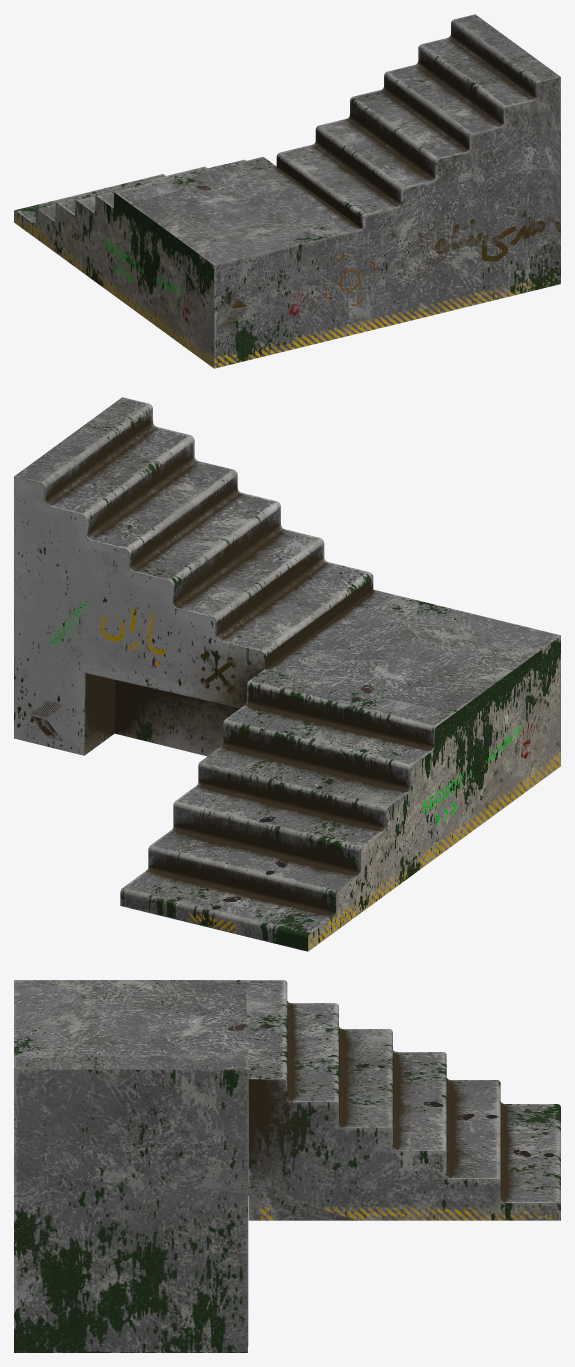
Rendered from the_staircase_step_ladder.glb.
3 renders of one model, top to bottom at view 1: azimuth 30°, elevation 25°; view 2: azimuth 150°, elevation 25°; view 3: azimuth 270°, elevation 25°, orthographic. The views are drawn at different scales.
Visible parts, largest first — view 1: Object_3, Object_2; view 2: Object_3; view 3: Object_3.
Part boxes in pixels (x1=…): Object_3: x1=14, y1=14, x2=560, y2=368; Object_2: x1=214, y1=77, x2=560, y2=368; Object_3: x1=14, y1=397, x2=560, y2=951; Object_3: x1=14, y1=980, x2=560, y2=1352.
Size of the model in its own units: 621 by 354 by 620.
1 material, 1 textured.
